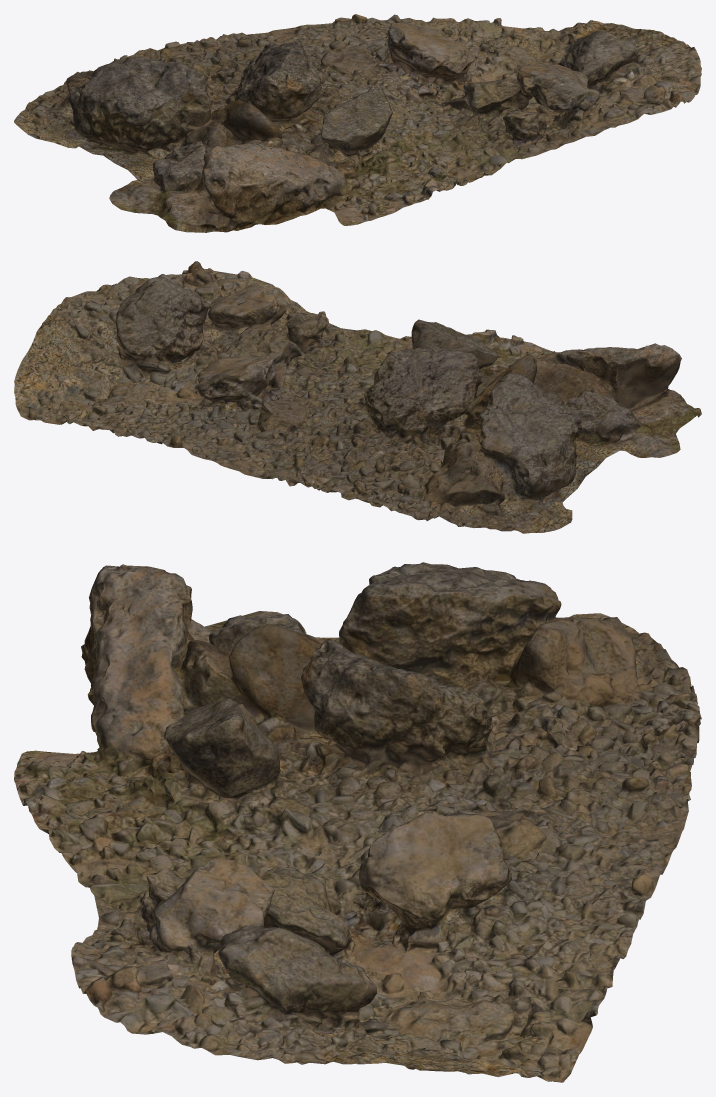
The model's file is field-rock-gravel-03.glb.
The picture shows the model from 3 angles, top to bottom: view 1: azimuth 30°, elevation 25°; view 2: azimuth 150°, elevation 25°; view 3: azimuth 270°, elevation 25°; orthographic projection. The views are drawn at different scales.
Bounding box in the file's own units: 8.98 × 1.52 × 5.63.
Materials: 1 (1 with a texture image).
